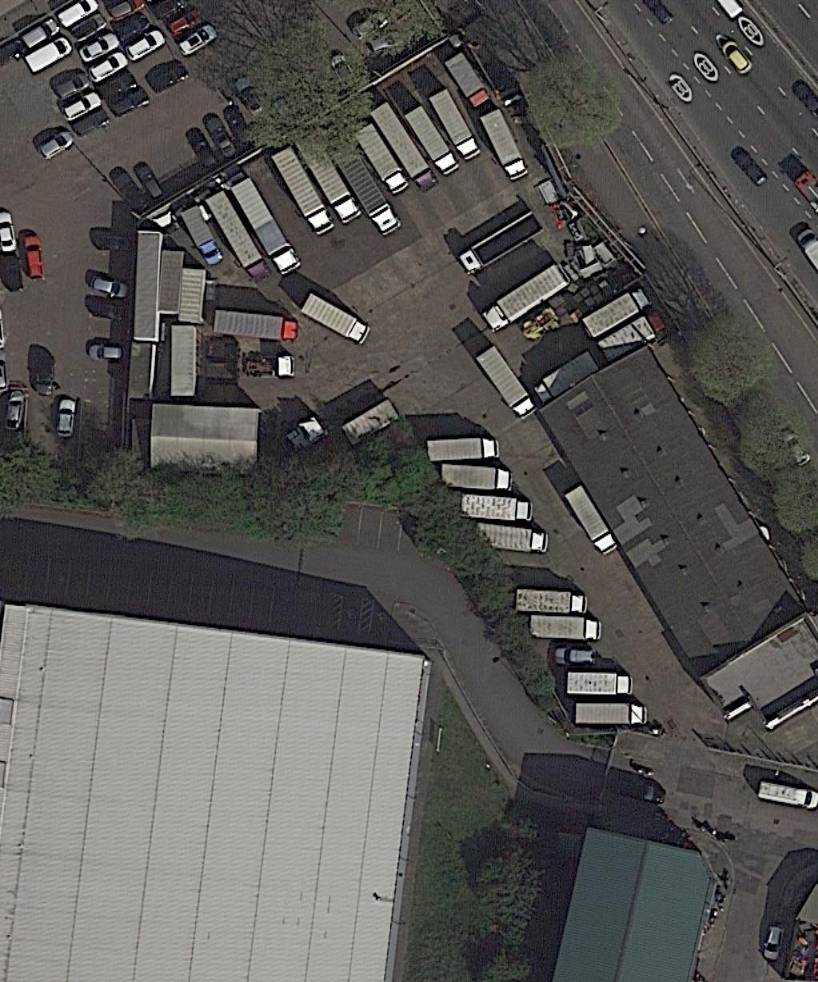large vehicle: (325, 132, 406, 240), (229, 175, 307, 281), (366, 97, 444, 198), (293, 127, 367, 230), (203, 187, 274, 290), (479, 261, 572, 337), (270, 142, 339, 241), (456, 208, 547, 280), (474, 344, 541, 425), (350, 120, 414, 201), (593, 306, 674, 368), (562, 481, 623, 561), (403, 103, 464, 181), (427, 86, 485, 165), (300, 289, 376, 349), (578, 284, 655, 342), (531, 349, 603, 409), (478, 106, 532, 186), (178, 203, 229, 271), (212, 307, 302, 344), (442, 48, 494, 112), (471, 521, 552, 558), (459, 492, 536, 528), (438, 465, 516, 497), (513, 585, 590, 617), (527, 614, 605, 645), (426, 435, 503, 466), (565, 670, 636, 700), (574, 702, 649, 727)
small vehicle: (22, 32, 77, 77), (756, 778, 818, 813), (110, 167, 153, 217), (201, 112, 241, 164), (231, 71, 270, 124), (122, 25, 169, 67), (83, 47, 132, 86), (175, 20, 223, 59), (184, 127, 223, 175), (18, 14, 64, 53), (76, 29, 122, 68), (221, 104, 257, 153), (58, 88, 107, 124), (718, 36, 758, 80), (106, 84, 153, 121), (350, 6, 396, 43), (145, 61, 192, 97), (731, 147, 770, 189), (164, 6, 209, 42), (111, 10, 154, 47), (67, 10, 111, 46), (96, 70, 140, 106), (132, 159, 167, 204), (35, 126, 77, 163), (49, 69, 94, 103), (69, 106, 113, 140), (89, 296, 134, 326), (88, 271, 133, 301), (21, 232, 46, 282), (1, 251, 27, 295), (3, 388, 28, 432), (35, 355, 58, 398), (92, 231, 139, 252), (87, 342, 130, 363), (56, 397, 78, 438), (0, 212, 19, 255)
